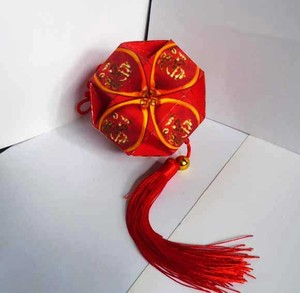xiuqiu: (84, 41, 207, 157)
